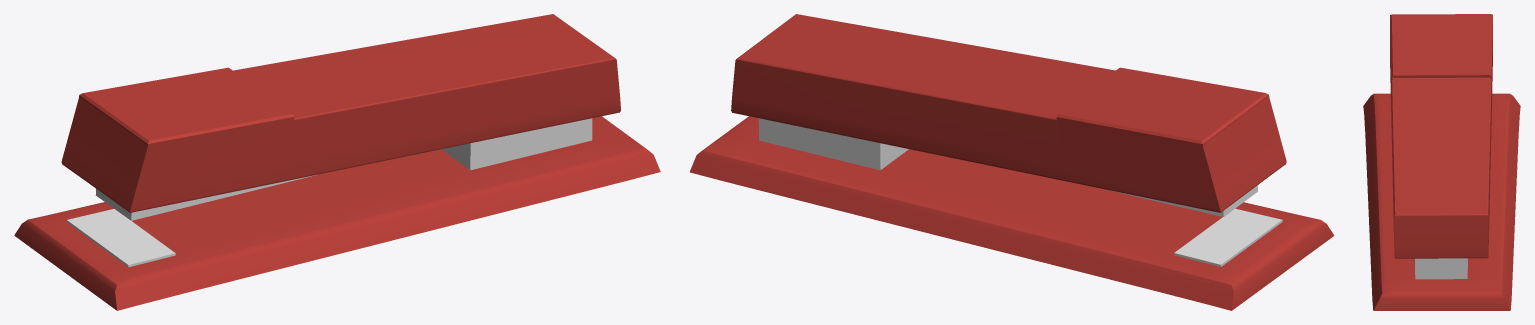
The model's file is stapler.fbx.
3 views of the same model, side by side, from view 1: azimuth 30°, elevation 25°; view 2: azimuth 150°, elevation 25°; view 3: azimuth 270°, elevation 25° (orthographic). The views are drawn at different scales.
Parts seen in each view (by area): view 1: stapler; view 2: stapler; view 3: stapler.
Part boxes in pixels (x1,y1,x2,y2): stapler: [14, 14, 660, 310]; stapler: [690, 14, 1334, 310]; stapler: [1363, 14, 1520, 310].
Bounding box in the file's own units: 15.75 × 3.95 × 5.11.
